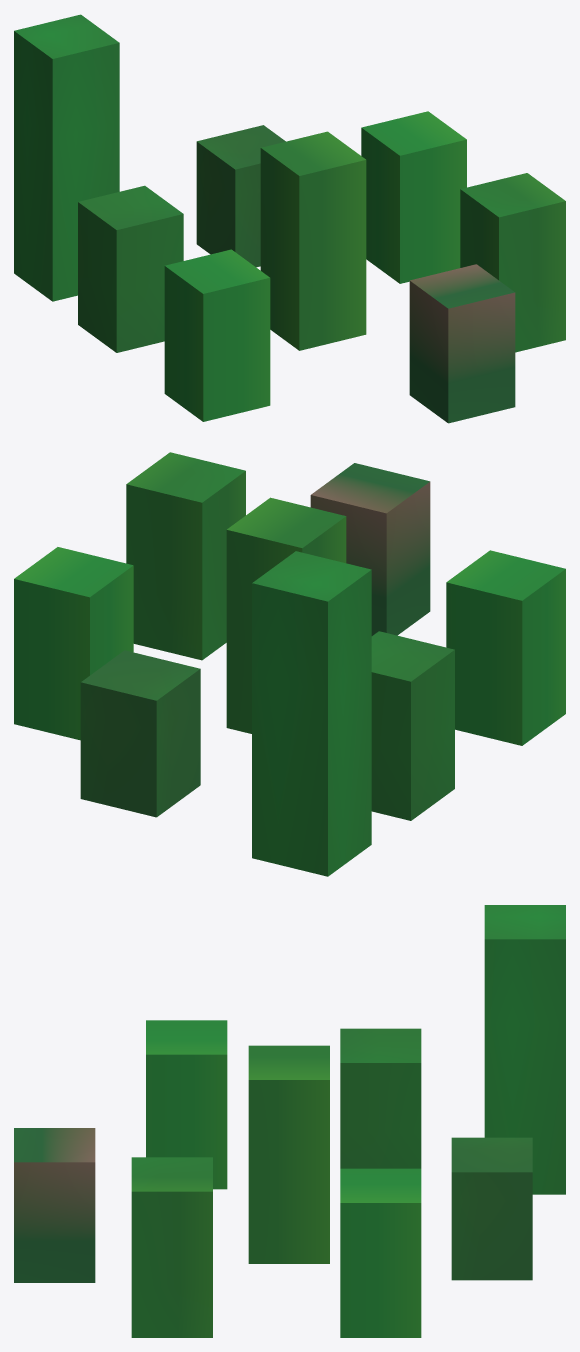
The model's file is Plants_3.fbx.
3 views of the same model, one above another, from view 1: azimuth 30°, elevation 25°; view 2: azimuth 150°, elevation 25°; view 3: azimuth 270°, elevation 25° (orthographic). The views are drawn at different scales.
Visible parts, largest first — view 1: Plants_3; view 2: Plants_3; view 3: Plants_3.
Part boxes in pixels (box(x1,y1,x2,y2)): Plants_3: box(14, 14, 565, 423); Plants_3: box(14, 452, 565, 876); Plants_3: box(14, 905, 565, 1337).
Bounding box in the file's own units: 18.61 × 12.13 × 23.76.
Materials: 1 (1 with a texture image).
